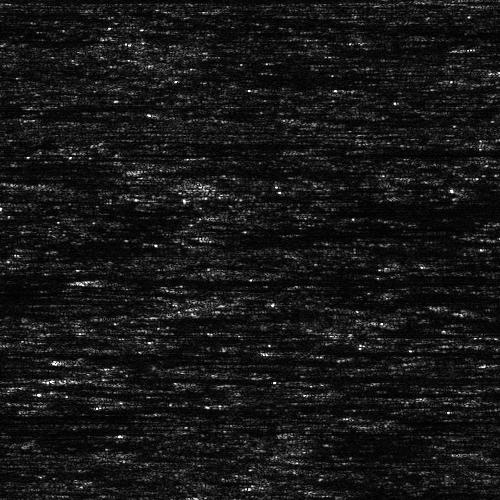rock: (38, 373, 131, 382), (254, 348, 327, 355), (53, 277, 126, 284), (296, 388, 349, 393), (0, 168, 19, 173)
shadow: (90, 277, 500, 284), (0, 414, 396, 419), (85, 373, 251, 382), (291, 348, 469, 355), (323, 388, 497, 393), (0, 168, 79, 173), (0, 156, 12, 157)
